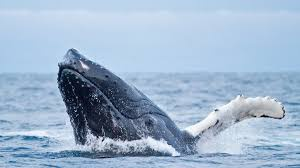humpback: (56, 46, 200, 154)
